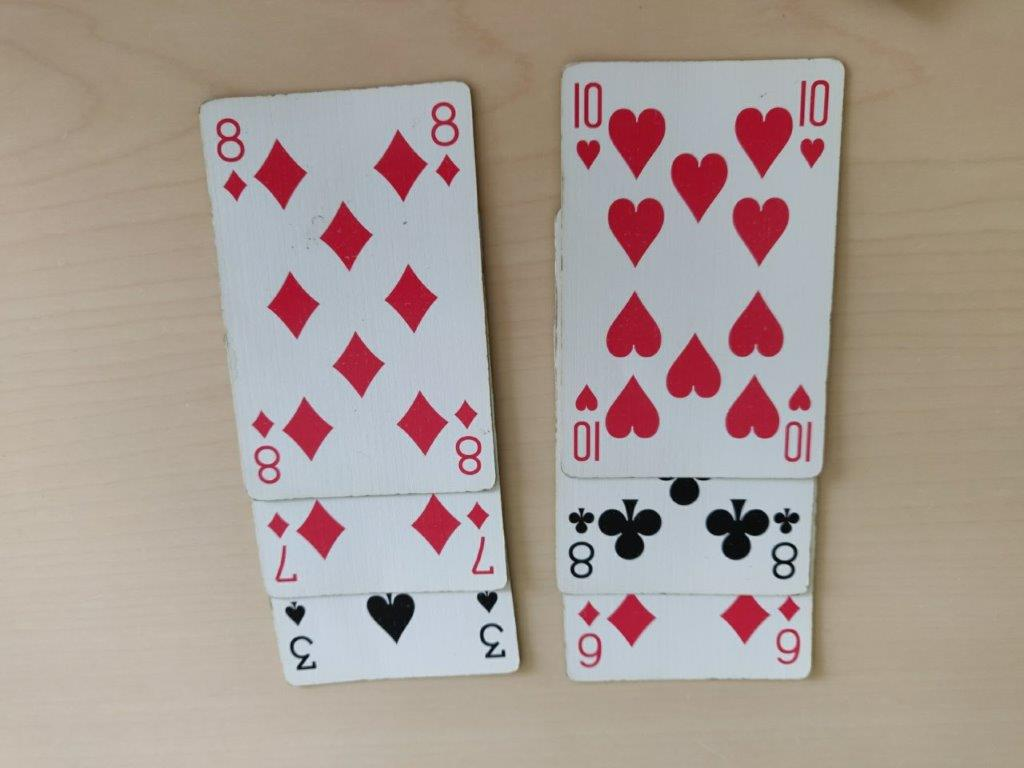10H: (562, 66, 840, 480)
3S: (270, 584, 518, 692)
7D: (257, 491, 497, 592)
8C: (556, 471, 812, 590)
8D: (203, 95, 501, 492)
9D: (558, 589, 811, 684)
